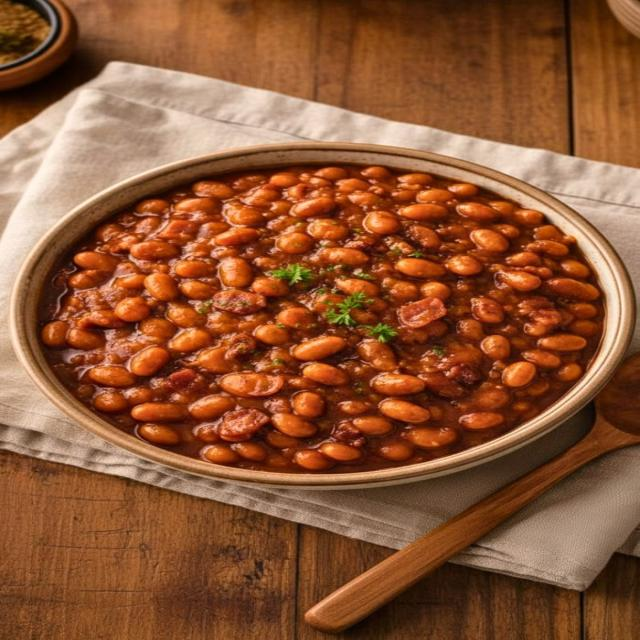beans: (42, 166, 604, 474), (219, 408, 269, 442), (219, 373, 283, 397), (397, 298, 446, 327), (212, 290, 266, 315), (292, 336, 346, 361), (544, 278, 599, 301), (358, 340, 397, 371), (406, 426, 458, 449), (379, 399, 430, 422), (130, 347, 170, 376), (371, 374, 425, 395), (131, 403, 188, 422), (302, 363, 349, 386), (272, 413, 317, 437), (189, 396, 234, 420), (219, 257, 253, 288), (193, 347, 233, 373), (395, 258, 446, 278), (88, 366, 136, 387), (130, 240, 179, 260), (290, 197, 336, 218), (145, 273, 179, 301), (138, 423, 181, 445), (470, 387, 511, 410), (307, 219, 349, 241), (171, 328, 211, 351), (139, 318, 177, 342), (277, 307, 318, 329), (470, 229, 509, 252), (292, 391, 325, 418), (502, 361, 536, 387), (497, 271, 541, 291), (167, 304, 205, 327), (320, 248, 368, 266), (384, 278, 420, 302), (66, 328, 105, 350), (214, 227, 259, 246), (363, 211, 400, 234), (115, 297, 149, 322), (78, 310, 125, 328), (336, 278, 380, 297), (276, 232, 314, 254), (471, 298, 504, 323), (293, 450, 334, 470), (74, 252, 117, 271), (399, 203, 447, 220), (538, 334, 586, 351), (459, 412, 504, 430), (68, 270, 110, 289), (352, 416, 394, 435), (92, 390, 128, 412), (408, 225, 441, 249), (203, 443, 240, 464), (445, 255, 482, 276), (480, 335, 511, 360), (457, 203, 500, 221), (225, 206, 263, 226), (192, 181, 234, 199), (320, 443, 362, 461), (254, 324, 290, 345), (522, 350, 561, 369), (252, 277, 289, 297), (174, 260, 214, 278), (526, 240, 568, 257), (41, 321, 68, 347), (173, 197, 219, 212), (378, 442, 414, 461), (264, 430, 299, 449), (457, 318, 484, 341), (234, 442, 266, 461), (560, 259, 590, 278), (420, 282, 451, 300), (505, 252, 542, 267), (193, 423, 220, 443), (568, 320, 599, 337), (567, 302, 597, 319), (314, 166, 348, 181), (338, 400, 372, 415), (416, 188, 452, 202), (555, 363, 583, 381), (512, 210, 543, 226), (269, 172, 299, 188), (336, 178, 368, 193), (114, 274, 146, 289), (397, 173, 433, 185), (361, 166, 391, 180), (448, 183, 478, 197)
